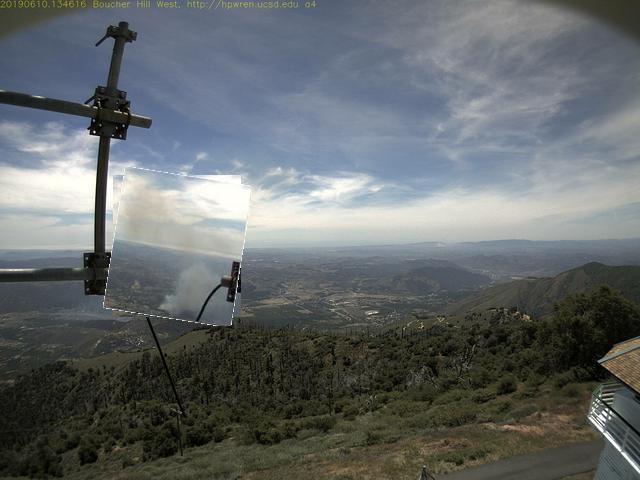smoke: (109, 172, 248, 324)
